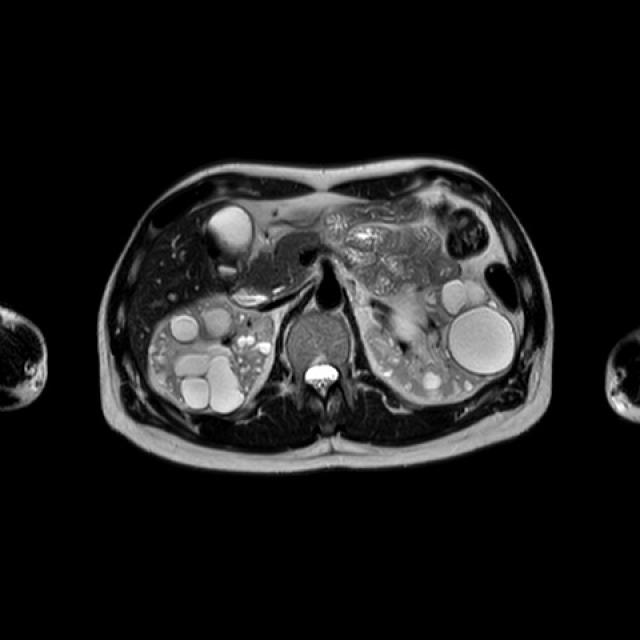sag: (148, 295, 275, 416)
sol: (363, 275, 516, 402)
